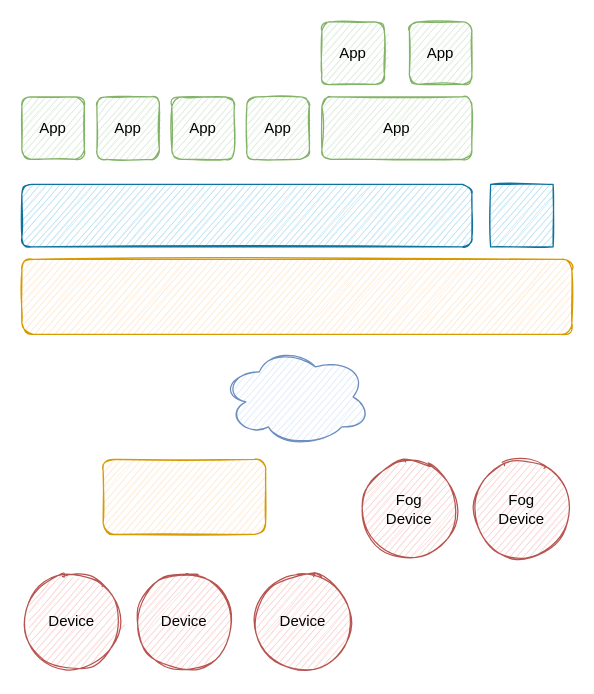
This 594x694 diagram has some shape labels left out. The shapes that lost their labels are listed below. From the top down, each one's centre as x and y in pixels, then its label:
(x=246, y=215): Public API / SDK
(x=521, y=215): Private API
(x=296, y=296): Platform
(x=296, y=396): Internet
(x=184, y=496): Gateway
